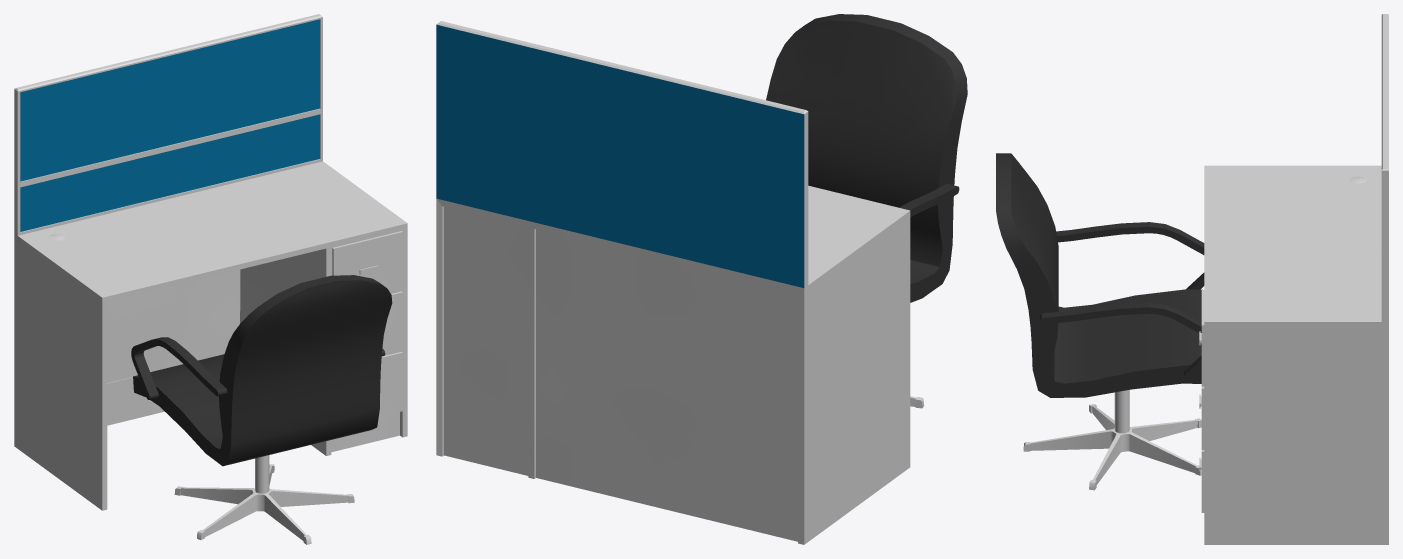
File: desk.gltf
3 renders of one model, left to right at view 1: azimuth 30°, elevation 25°; view 2: azimuth 150°, elevation 25°; view 3: azimuth 270°, elevation 25°, orthographic. The views are drawn at different scales.
Visible parts, largest first — view 1: Lo-ZUOZI_01; view 2: Lo-ZUOZI_01; view 3: Lo-ZUOZI_01.
Boxes of the visible parts, left/top/right/bottom form: Lo-ZUOZI_01: left=14, top=14, right=407, bottom=544; Lo-ZUOZI_01: left=436, top=14, right=967, bottom=544; Lo-ZUOZI_01: left=996, top=14, right=1388, bottom=544.
Size of the model in its own units: 1.2 by 1.35 by 1.28.
Materials: 1 (1 with a texture image).
